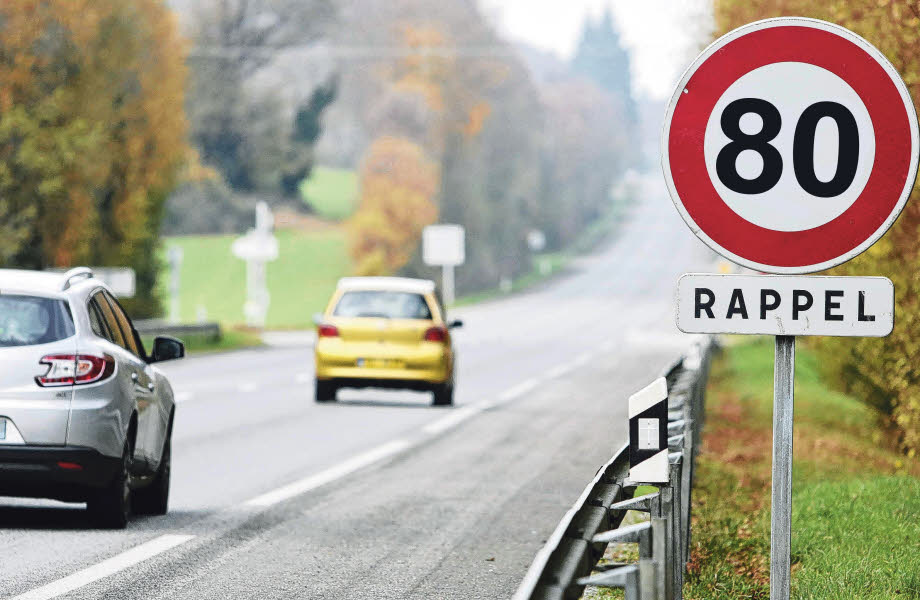Speed_limit_80km: (664, 16, 920, 276)
car: (306, 272, 466, 414)
